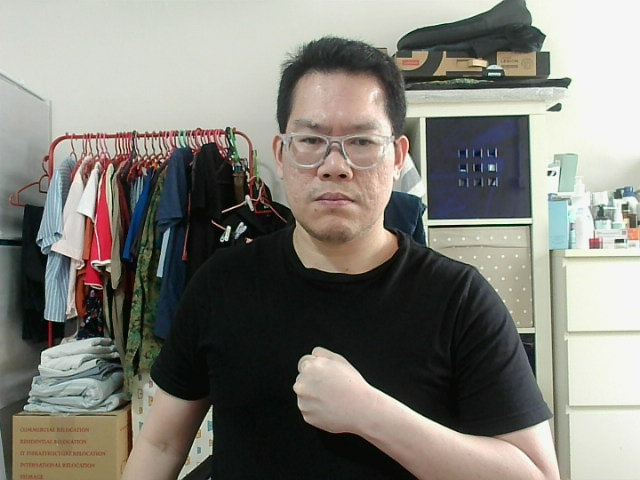sorry: (300, 355, 357, 418)
